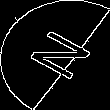N_SE: (17, 24, 93, 86)
